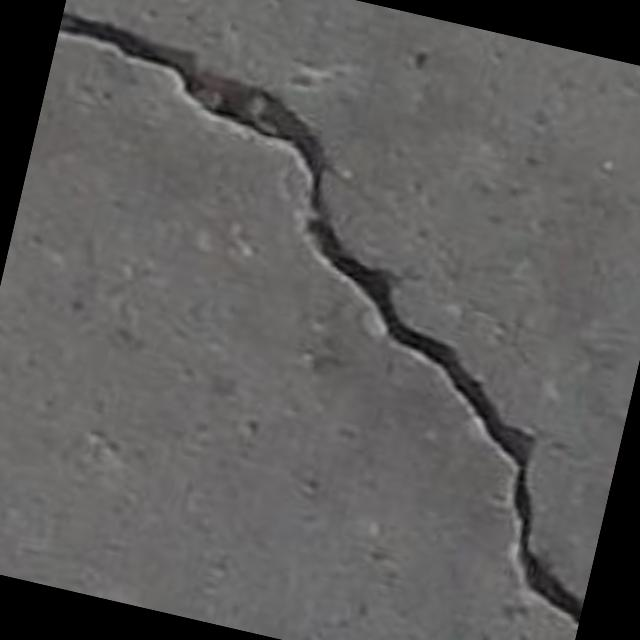crack: (58, 11, 583, 626)
